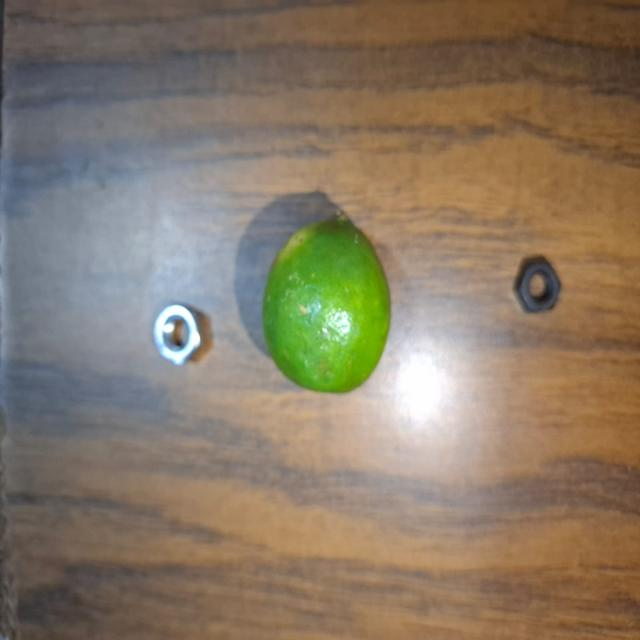limon: (261, 208, 392, 395)
milimetrico: (512, 256, 564, 318)
tuerca: (148, 301, 210, 368)
